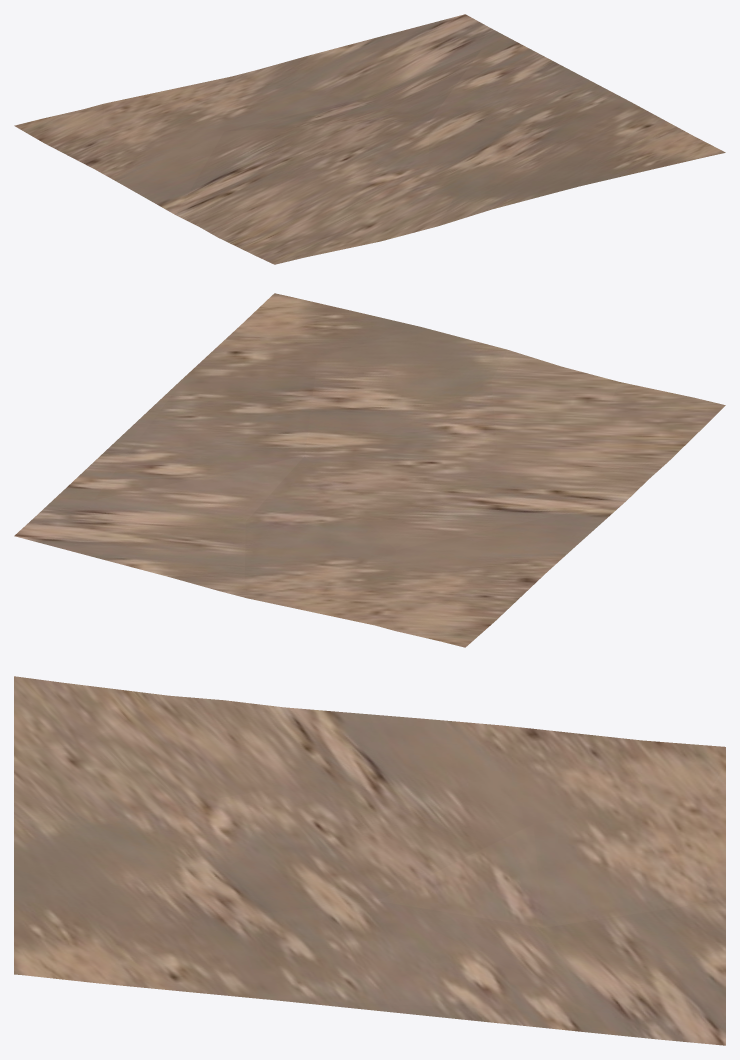
3 renders of one model, top to bottom at view 1: azimuth 30°, elevation 25°; view 2: azimuth 150°, elevation 25°; view 3: azimuth 270°, elevation 25°, orthographic. The views are drawn at different scales.
Size of the model in its own units: 2.09 by 0.2632 by 2.09.
3 materials, 3 textured.
